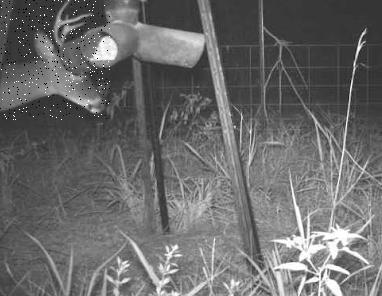Deer: (0, 0, 110, 120)
